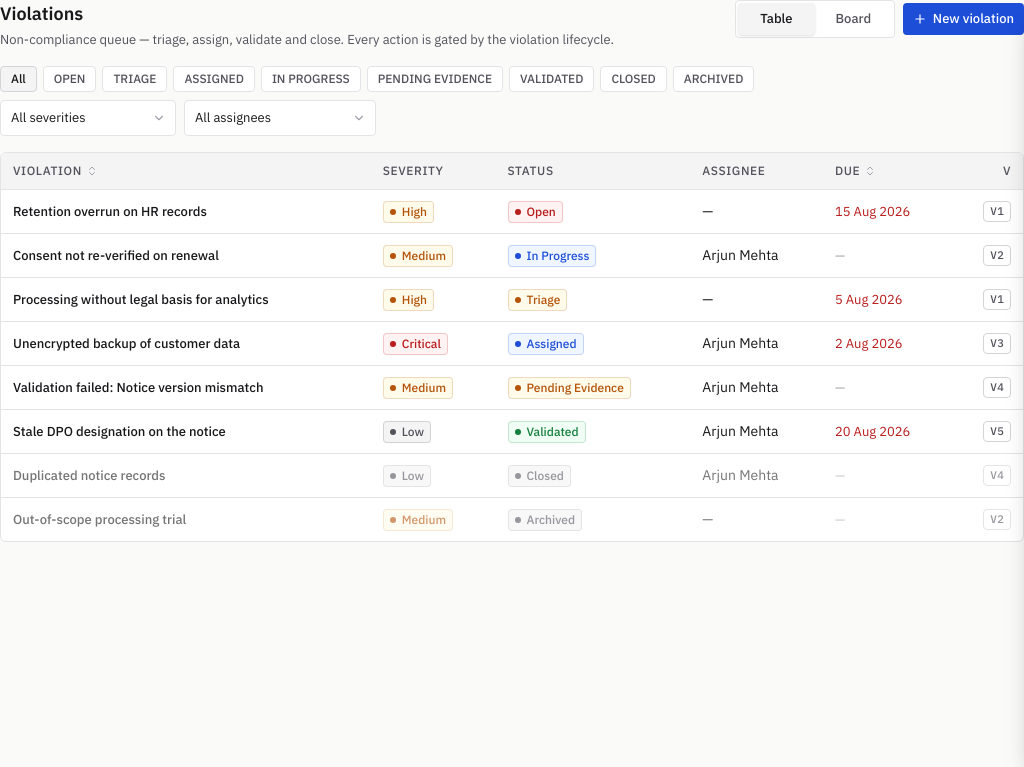
Scenario: ViolationsView (§9.8) › links the source validation result and the evidence requirement
Step 1. Click the text "Validation failed: Notice version mismatch" → (138, 387), box [13, 379, 264, 396]
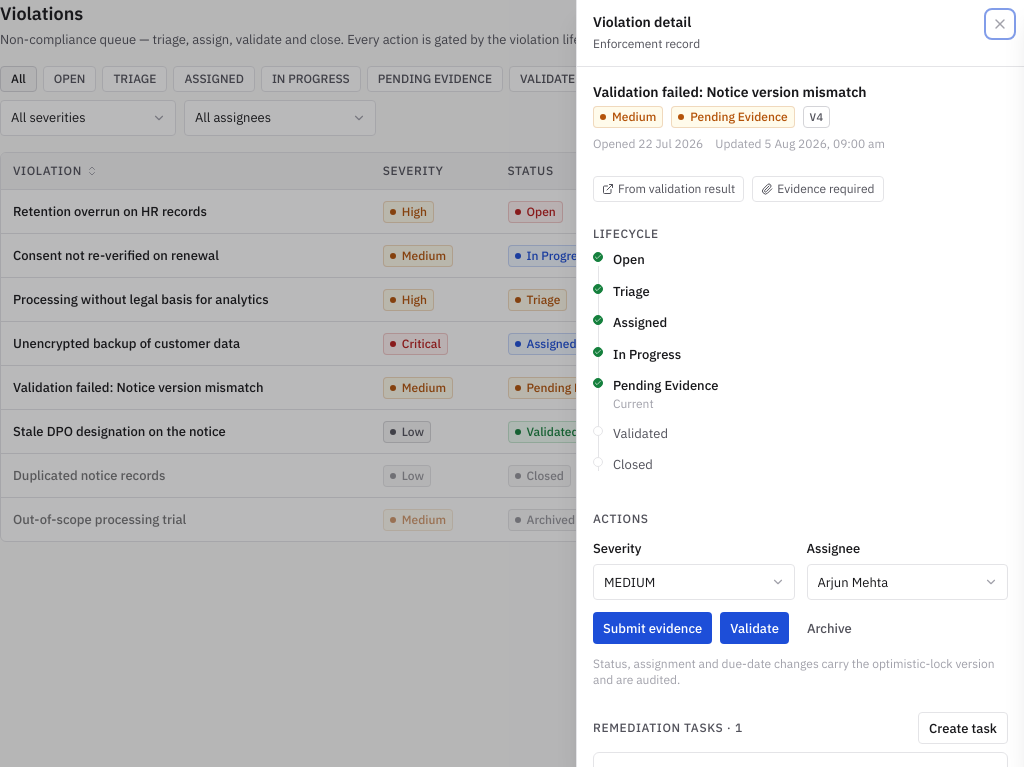
Expected: the link "From validation result" is shown, [593, 176, 744, 202]
